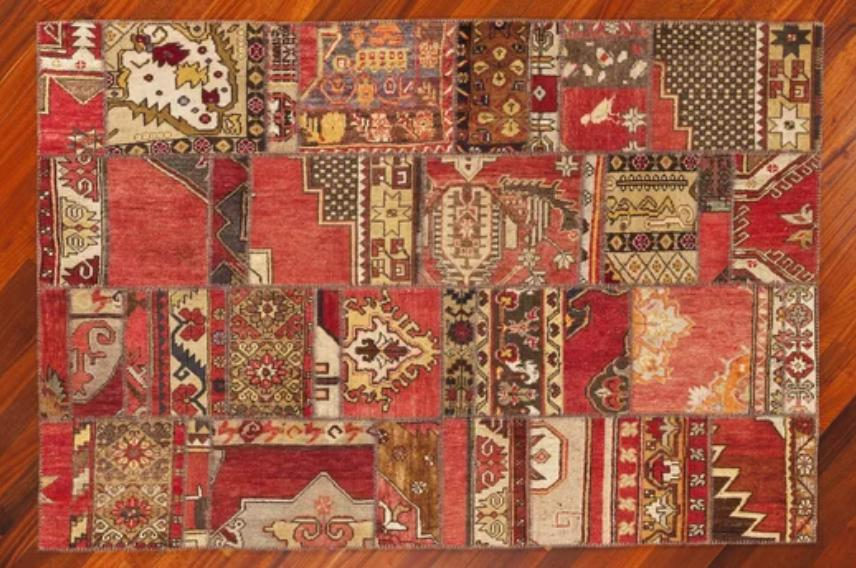carpet: (37, 20, 821, 549)
